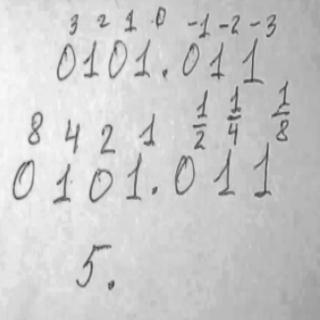.: (149, 184, 160, 197), (106, 278, 117, 291), (160, 67, 170, 79)
0: (11, 159, 36, 201), (106, 38, 129, 80), (88, 168, 114, 204), (173, 155, 196, 195), (56, 44, 76, 82), (182, 42, 200, 77), (154, 5, 166, 27)
1: (213, 149, 239, 198), (252, 141, 274, 198), (241, 38, 266, 85), (53, 162, 74, 205), (126, 153, 142, 204), (134, 39, 153, 78), (137, 114, 159, 147), (209, 41, 227, 80), (82, 41, 99, 78), (195, 89, 210, 119), (230, 84, 244, 114), (277, 80, 291, 110), (123, 8, 138, 34)
2: (98, 123, 116, 156), (192, 129, 208, 151), (95, 12, 111, 28)
3: (67, 12, 80, 36)
4: (64, 119, 82, 155), (227, 121, 241, 146)
5: (75, 243, 106, 289)
8: (26, 111, 45, 147), (275, 117, 290, 144)
